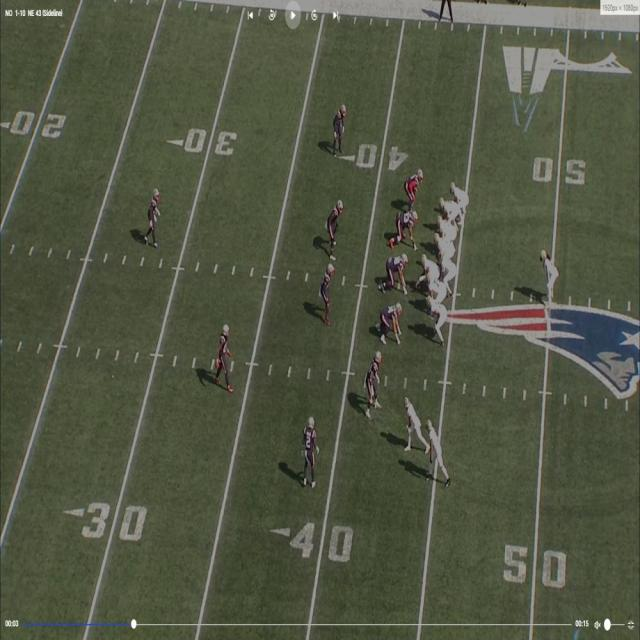center: (416, 254, 434, 295)
db: (216, 322, 234, 392), (304, 421, 317, 489), (148, 185, 159, 244), (333, 100, 345, 147)
lb: (368, 350, 381, 415), (328, 202, 343, 254), (405, 163, 423, 206), (323, 262, 336, 321)
qb: (437, 248, 458, 287)
skill: (428, 424, 446, 484), (404, 397, 421, 452), (541, 248, 557, 304), (442, 195, 464, 227), (450, 183, 470, 206)
